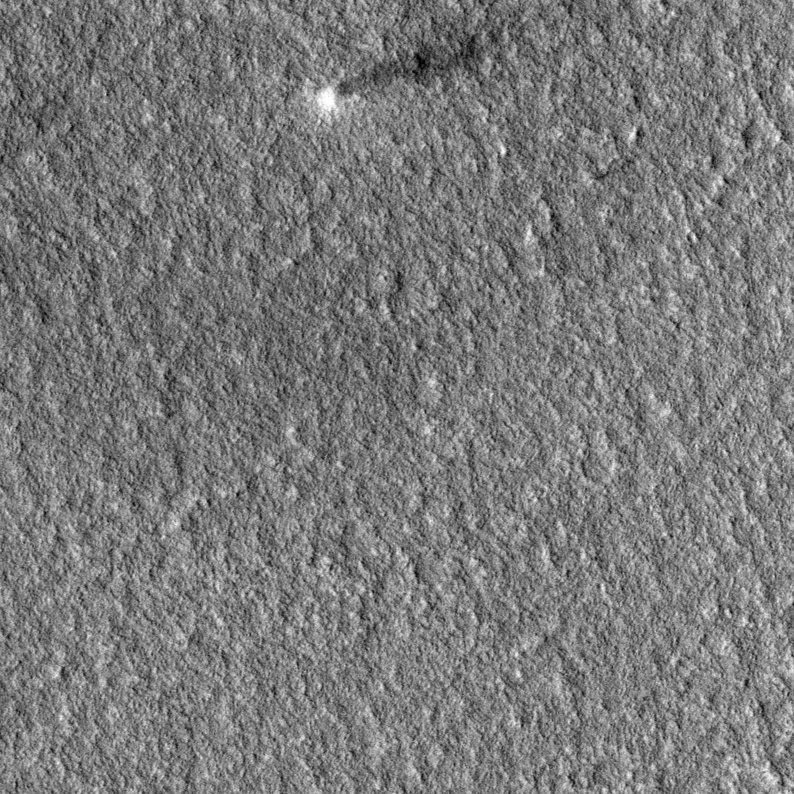dust_devil: (312, 28, 484, 122)
